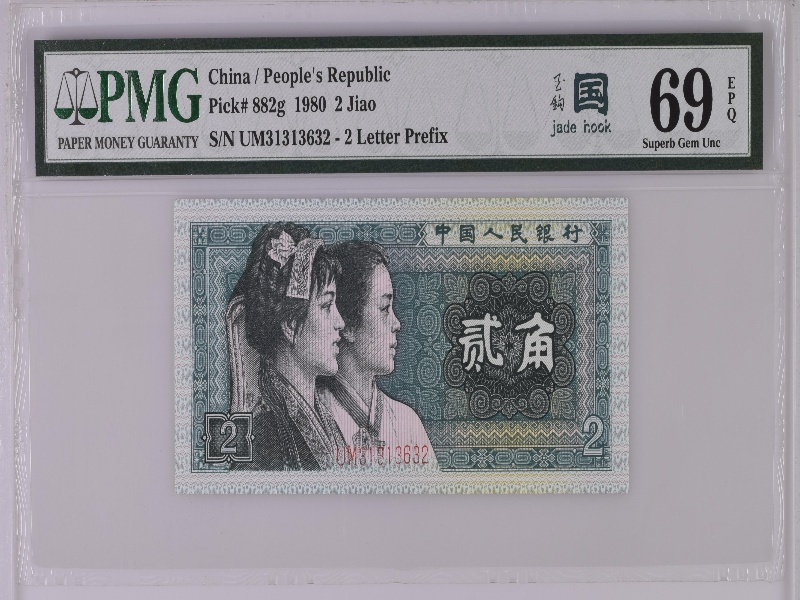papernote: (173, 190, 634, 497)
